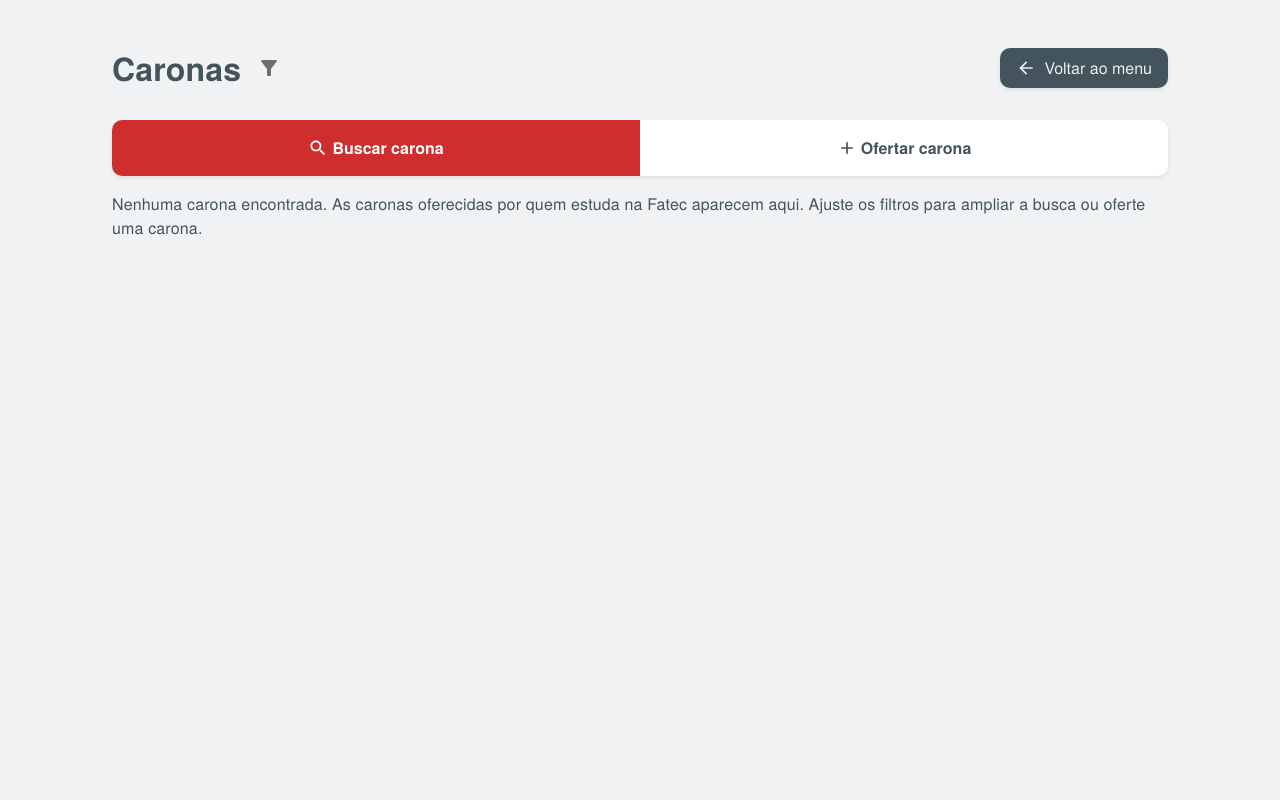
Test: Rides › should build the request from the filters
Expected: the text "Nenhuma carona encontrada. As caronas oferecidas por quem estuda na Fatec aparecem aqui. Ajuste os filtros para ampliar " is shown, [112,192,1145,239]
Click the button named "Filtros" at (269, 68), box [249,48,289,88]
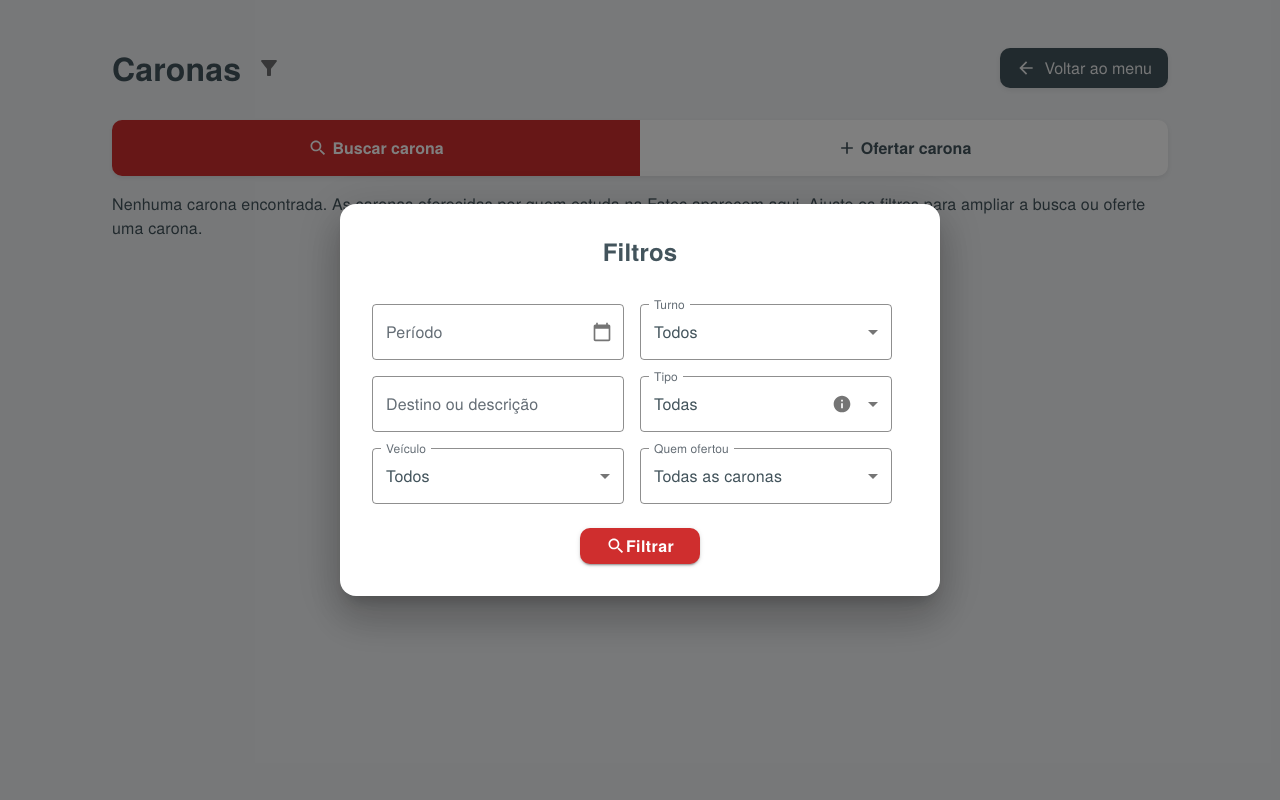
Result: the dialog is shown at [340,204,940,596]
Type "Sorocaba" into the field labelled "Destino ou descrição" at (498, 404), box [372,376,624,432]
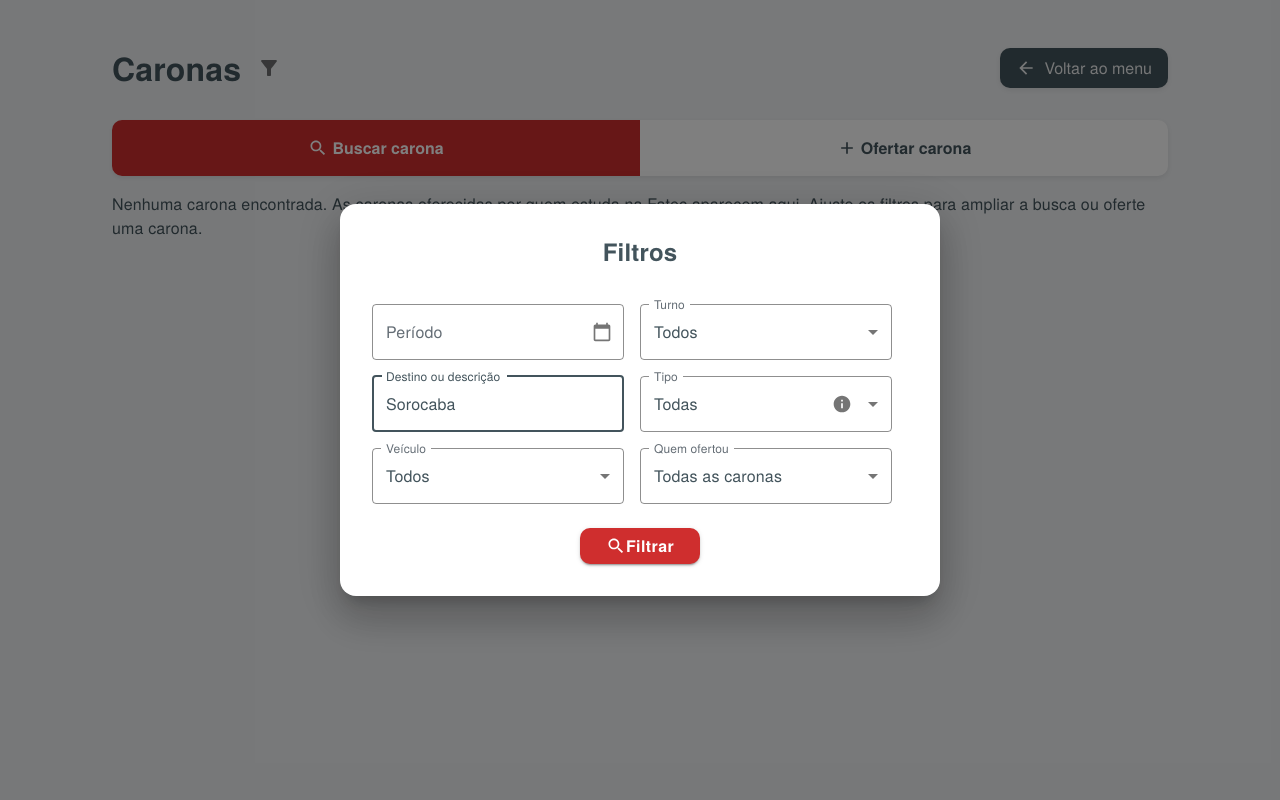
Click the button "Filtrar" at (640, 546), box [580,528,700,564]
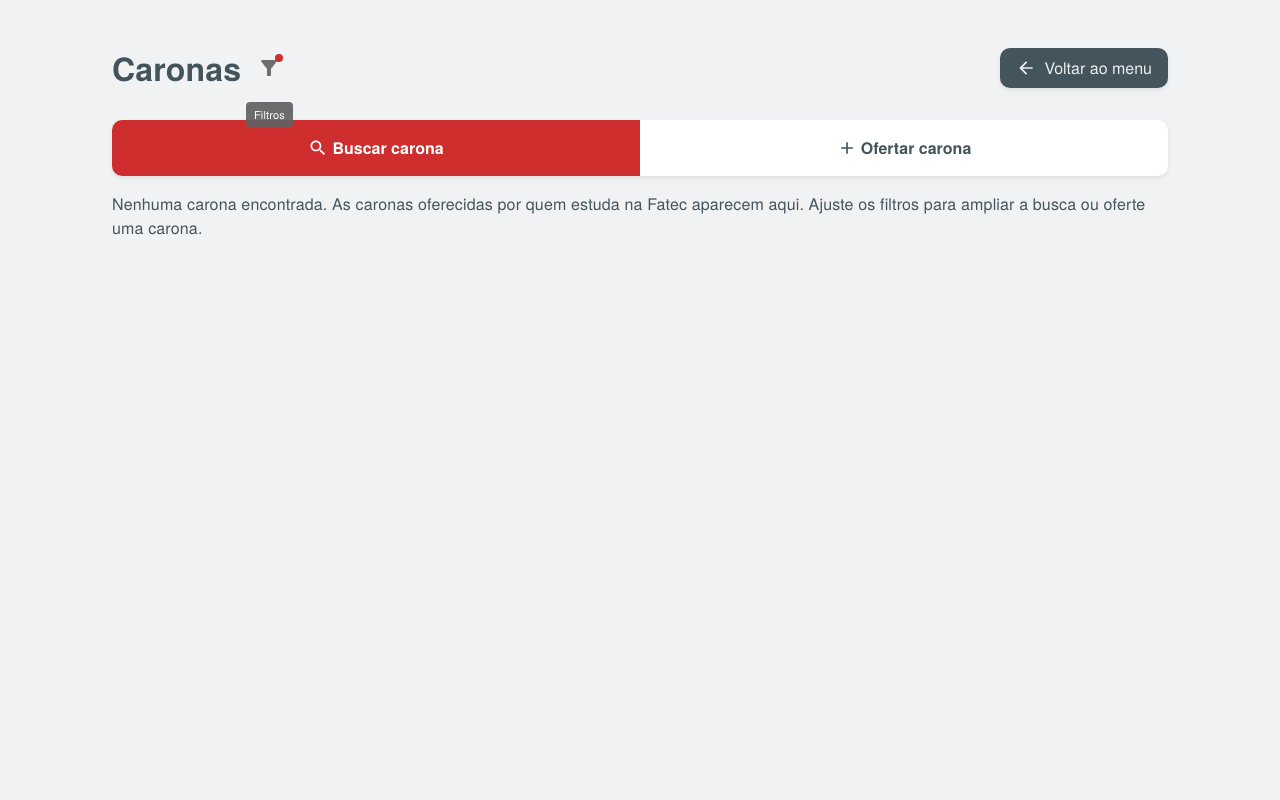
Result: the dialog is gone
